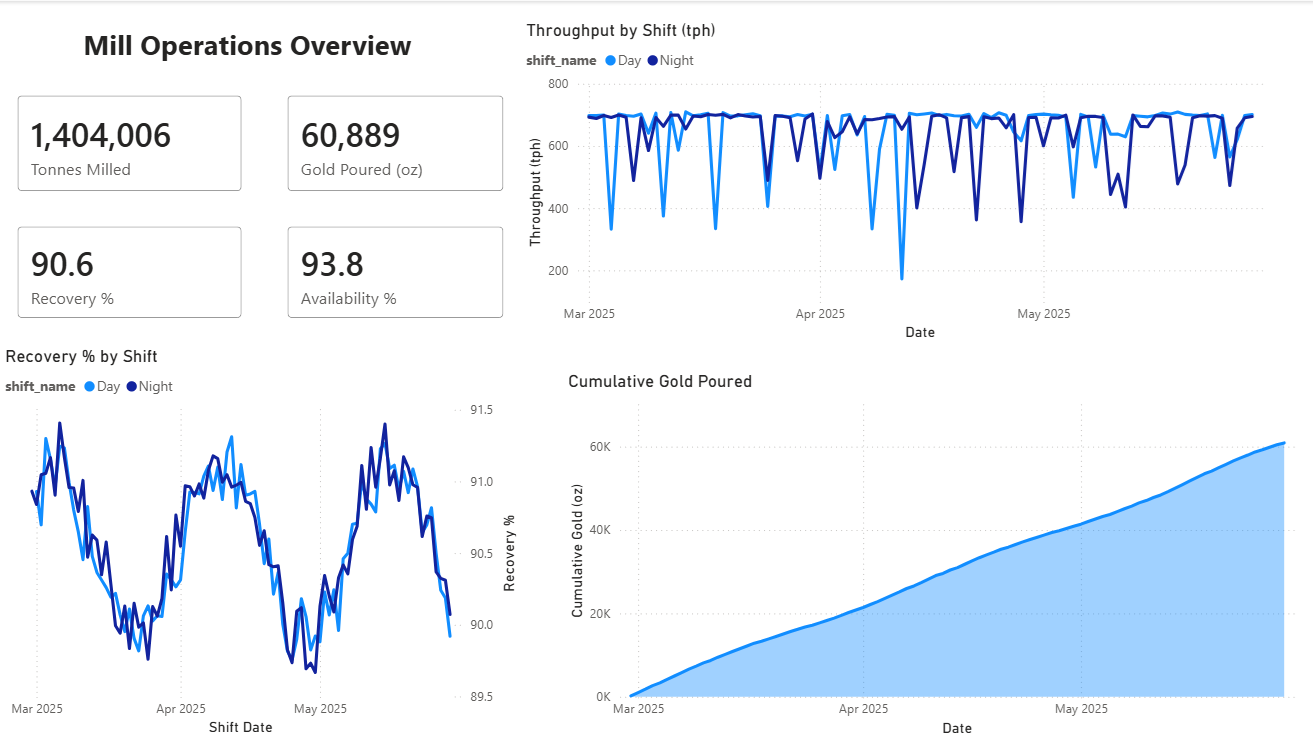

Layout of this report page (visuals, bound fields, positions):
{"tool":"powerbi","page":{"name":"Operations","canvas":[1280,720],"ordinal":0},"visuals":[{"type":"cardVisual","fields":{"Data":["Shift KPIs.Tonnes Milled"]},"box":[0,74.9,252.9,127.4],"z":0},{"type":"cardVisual","fields":{"Data":["Shift KPIs.Recovery %"]},"box":[0,202.3,252.9,123.5],"z":1000},{"type":"cardVisual","fields":{"Data":["Shift KPIs.Gold Poured (oz)"]},"box":[262.6,74.9,244.1,127.4],"z":2000},{"type":"cardVisual","fields":{"Data":["Shift KPIs.Availability %"]},"box":[262.6,202.3,244.1,123.5],"z":3000},{"type":"lineChart","title":"Throughput by Shift (tph)","fields":{"Category":["Hourly Throughput.date"],"Y":["Avg(Hourly Throughput.avg_throughput_tph)"],"Series":["Hourly Throughput.shift_name"]},"box":[506.7,18.5,742.1,317.1],"z":4000},{"type":"lineChart","title":"Recovery % by Shift","fields":{"Category":["Shift KPIs.Shift Date"],"Y2":["Shift KPIs.Recovery %"],"Series":["Shift KPIs.shift_name"]},"box":[0,335.6,506.7,384.2],"z":5000},{"type":"areaChart","title":"Cumulative Gold Poured","fields":{"Y":["Shift KPIs.Cumulative Gold (oz)"],"Category":["Calendar.Date"]},"box":[547.6,359.9,732.4,359.9],"z":6000},{"type":"textbox","box":[75.9,18.5,349.2,56.4],"z":7000}]}

Visuals, with their boxes in screenshot pixels (x1, y1, x2, y2), scaled from the page's 1280x720 canvas onto the 1313x738 screenshot:
cardVisual - Shift KPIs.Tonnes Milled: x1=0 y1=77 x2=259 y2=207
cardVisual - Shift KPIs.Recovery %: x1=0 y1=207 x2=259 y2=334
cardVisual - Shift KPIs.Gold Poured (oz): x1=269 y1=77 x2=520 y2=207
cardVisual - Shift KPIs.Availability %: x1=269 y1=207 x2=520 y2=334
"Throughput by Shift (tph)" lineChart: x1=520 y1=19 x2=1281 y2=344
"Recovery % by Shift" lineChart: x1=0 y1=344 x2=520 y2=737
"Cumulative Gold Poured" areaChart: x1=562 y1=369 x2=1312 y2=737
textbox: x1=78 y1=19 x2=436 y2=77
